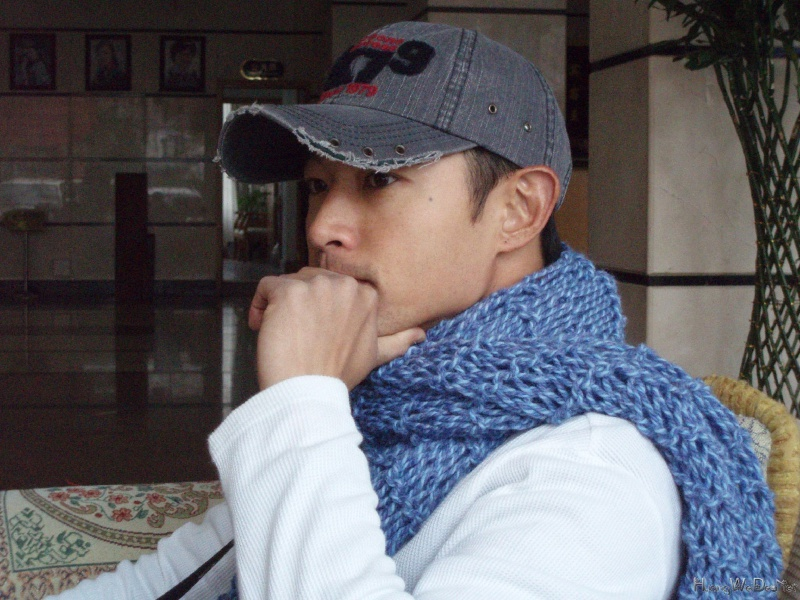male: (219, 30, 617, 354)
